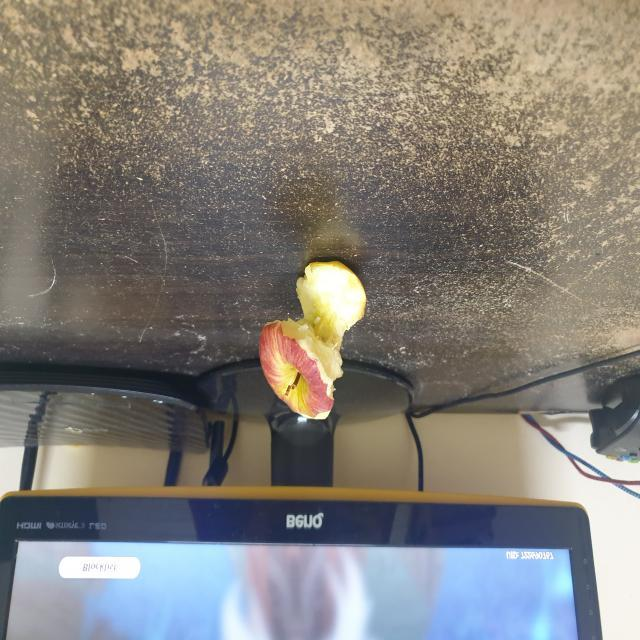apple: (258, 256, 368, 421)
